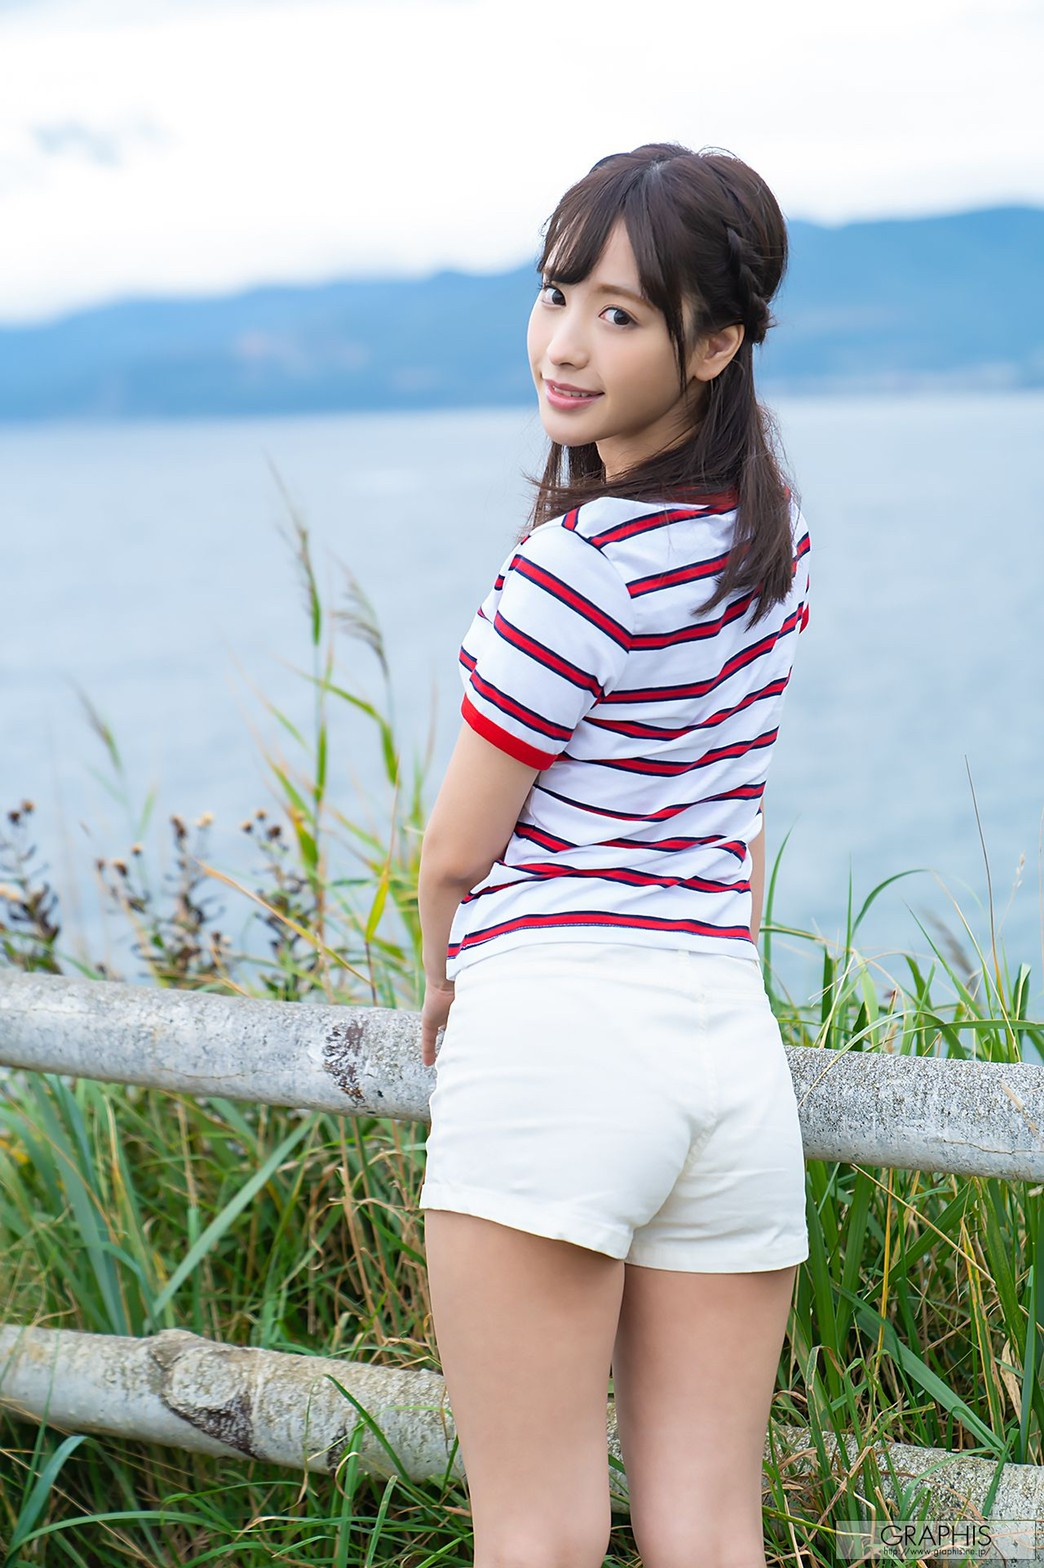people: (426, 143, 816, 1568)
